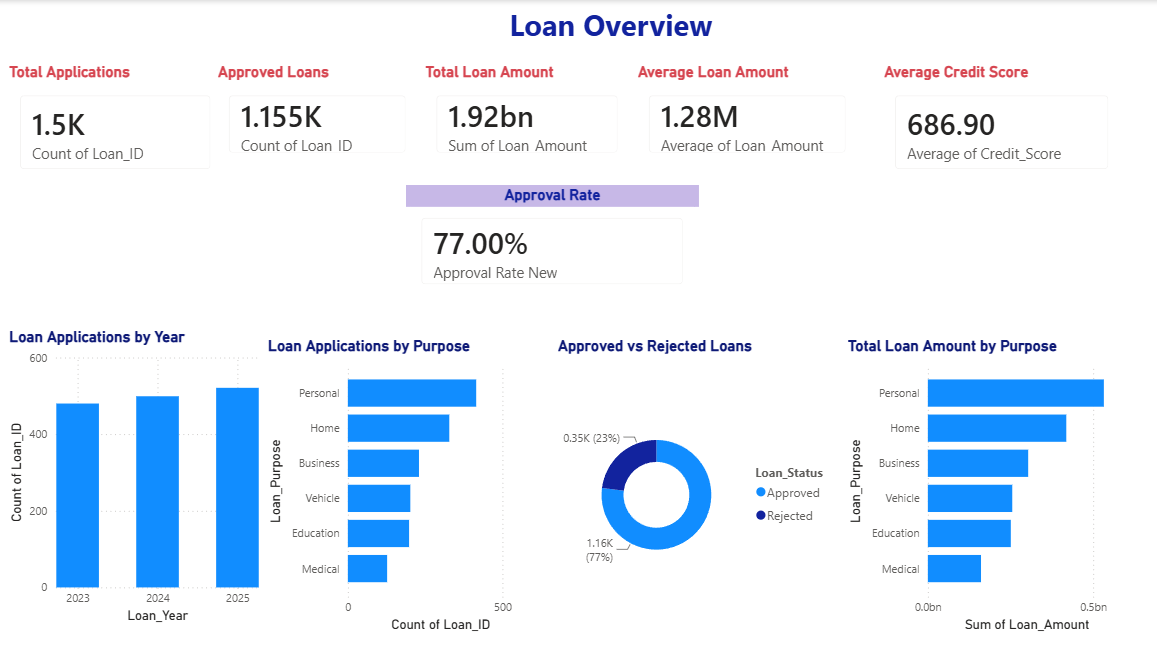

Layout of this report page (visuals, bound fields, positions):
{"tool":"powerbi","page":{"name":"Loan Overview","canvas":[1280,720],"ordinal":0},"visuals":[{"type":"cardVisual","title":"Total Applications","fields":{"Data":["CountNonNull(banking_loan_analytics loan_data.Loan_ID)"]},"box":[10,68.3,243.3,135],"z":0},{"type":"cardVisual","title":"Approved Loans","fields":{"Data":["CountNonNull(banking_loan_analytics loan_data.Loan_ID)"]},"box":[238.3,68.3,228.3,116.7],"z":1000},{"type":"cardVisual","title":"Total Loan Amount","fields":{"Data":["Sum(banking_loan_analytics loan_data.Loan_Amount)"]},"box":[466.7,68.3,233.3,116.7],"z":2000},{"type":"cardVisual","title":"Average Loan Amount","fields":{"Data":["Avg(banking_loan_analytics loan_data.Loan_Amount)"]},"box":[700,68.3,250,116.7],"z":3000},{"type":"cardVisual","title":"Average Credit Score","fields":{"Data":["Avg(banking_loan_analytics loan_data.Credit_Score)"]},"box":[970,68.3,268.3,135],"z":4000},{"type":"clusteredColumnChart","title":"Loan Applications by Year","fields":{"Category":["banking_loan_analytics loan_data.Loan_Year"],"Y":["CountNonNull(banking_loan_analytics loan_data.Loan_ID)"]},"box":[9.6,359.5,284,329.3],"z":5000},{"type":"clusteredBarChart","title":"Loan Applications by Purpose","fields":{"Category":["banking_loan_analytics loan_data.Loan_Purpose"],"Y":["CountNonNull(banking_loan_analytics loan_data.Loan_ID)"]},"box":[293.7,369.1,311.5,329.3],"z":6000},{"type":"donutChart","title":"Approved vs Rejected Loans","fields":{"Category":["banking_loan_analytics loan_data.Loan_Status"],"Y":["CountNonNull(banking_loan_analytics loan_data.Loan_ID)"]},"box":[612,369.1,318.4,329.3],"z":7000},{"type":"clusteredBarChart","title":"Total Loan Amount by Purpose","fields":{"Category":["banking_loan_analytics loan_data.Loan_Purpose"],"Y":["Sum(banking_loan_analytics loan_data.Loan_Amount)"]},"box":[930.4,369.1,330.7,329.3],"z":8000},{"type":"cardVisual","title":"Approval Rate","fields":{"Data":["banking_loan_analytics loan_data.Approval Rate New"]},"box":[450,203.3,321.7,126.7],"z":9000}]}

Visuals, with their boxes in screenshot pixels (x1, y1, x2, y2), scaled from the page's 1280x720 canvas onto the 1157x652 screenshot:
"Total Applications" cardVisual: region(9, 62, 229, 184)
"Approved Loans" cardVisual: region(215, 62, 422, 168)
"Total Loan Amount" cardVisual: region(422, 62, 633, 168)
"Average Loan Amount" cardVisual: region(633, 62, 859, 168)
"Average Credit Score" cardVisual: region(877, 62, 1119, 184)
"Loan Applications by Year" clusteredColumnChart: region(9, 326, 265, 624)
"Loan Applications by Purpose" clusteredBarChart: region(265, 334, 547, 632)
"Approved vs Rejected Loans" donutChart: region(553, 334, 841, 632)
"Total Loan Amount by Purpose" clusteredBarChart: region(841, 334, 1140, 632)
"Approval Rate" cardVisual: region(407, 184, 698, 299)
